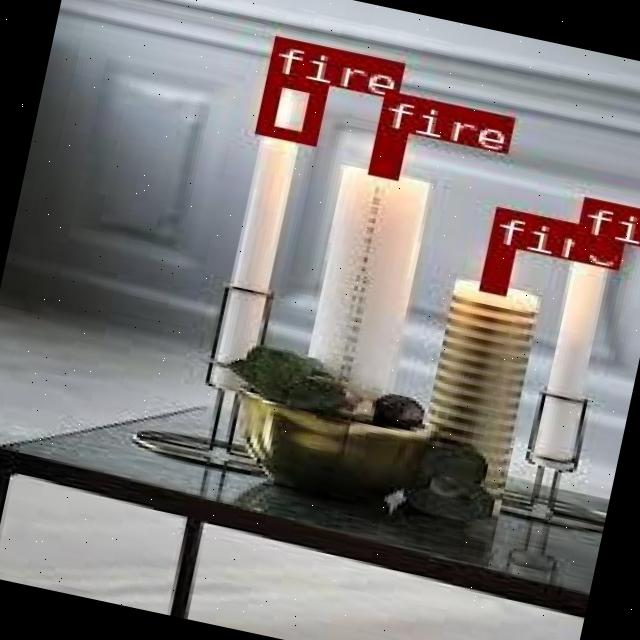fire: (255, 69, 322, 141), (569, 194, 619, 256), (366, 126, 404, 178), (477, 242, 512, 292)
